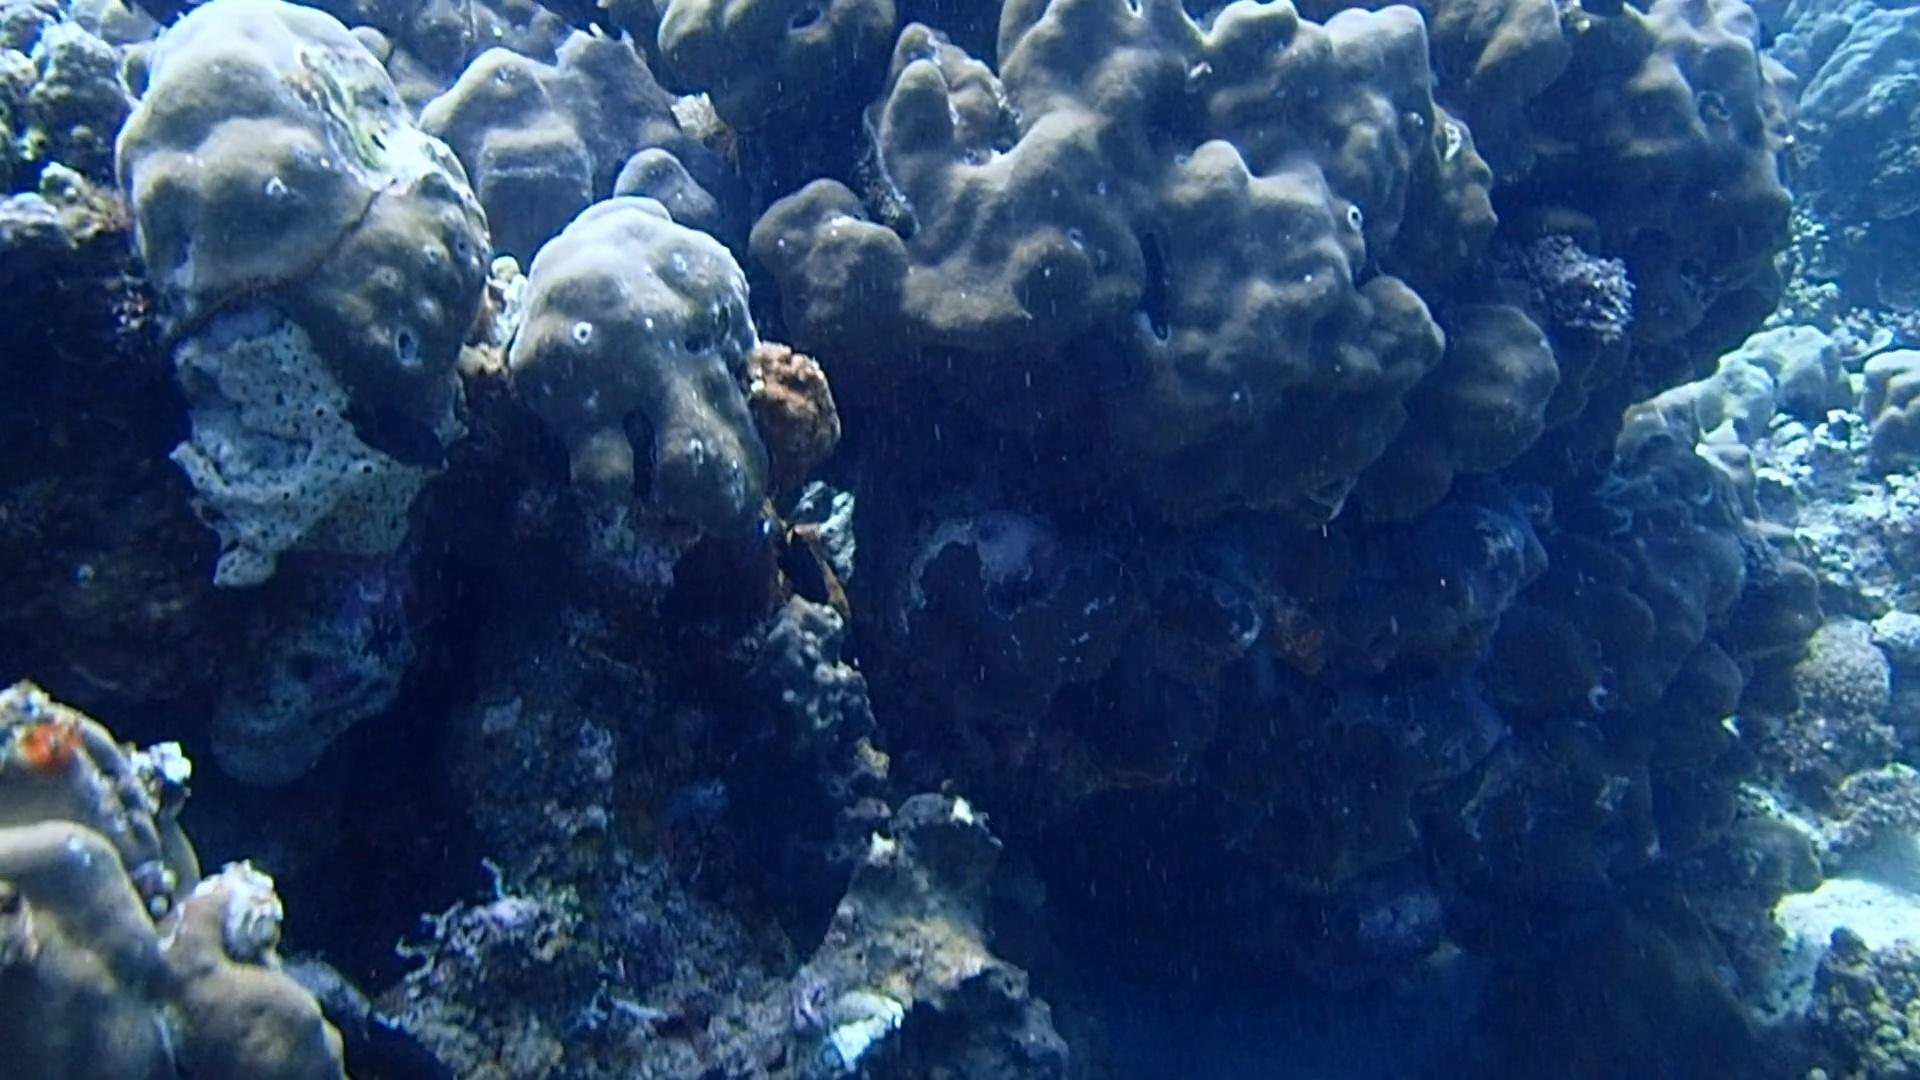Dark Fish: (761, 510, 839, 618), (338, 1010, 455, 1080)
